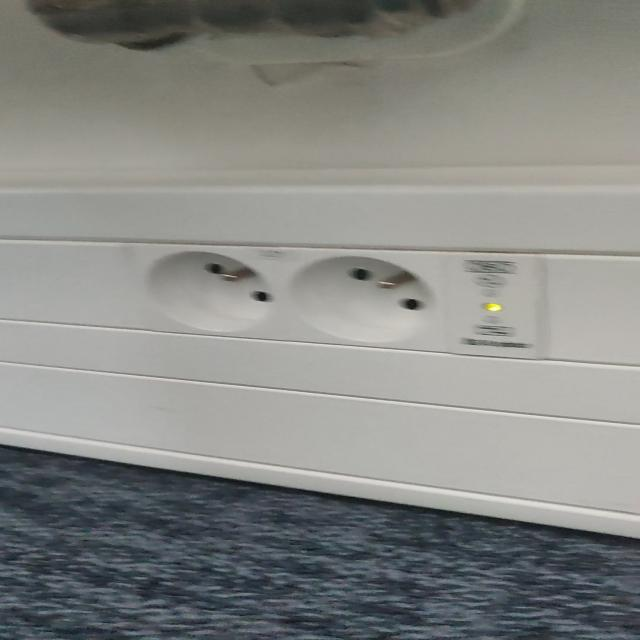house plug: (284, 246, 455, 353), (120, 238, 286, 341)
